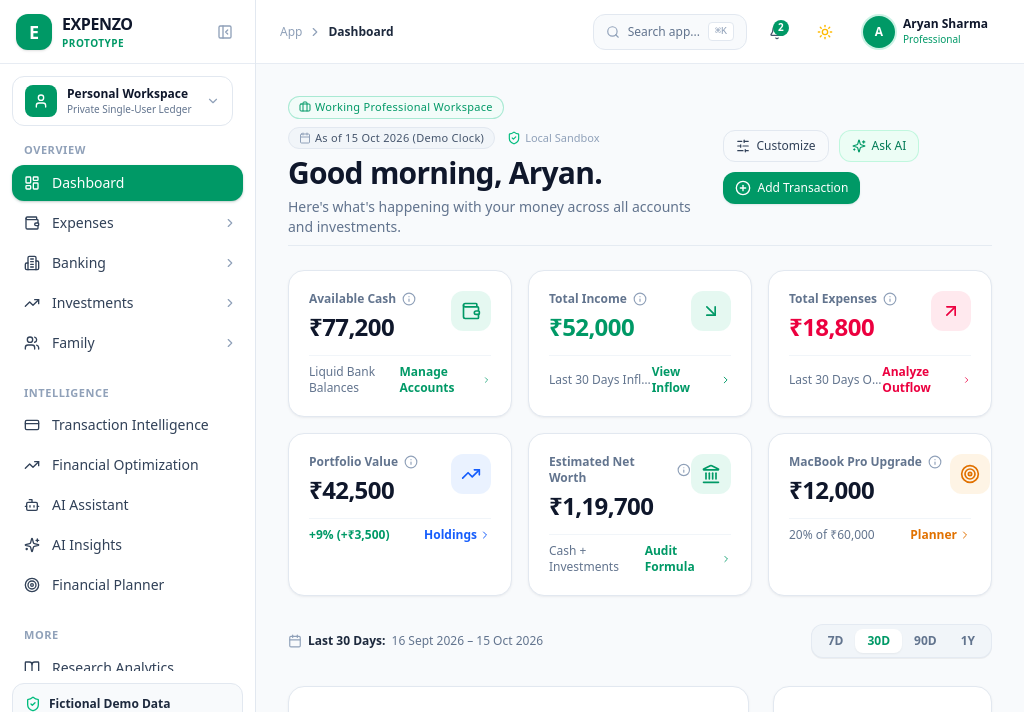
Scenario: Phase 4 Core Financial Dashboard Tests › allows customizing dashboard widget visibility via Customize dialog
# Open Customize modal
Click the button "Customize" at (776, 146), box [724,130,829,162]
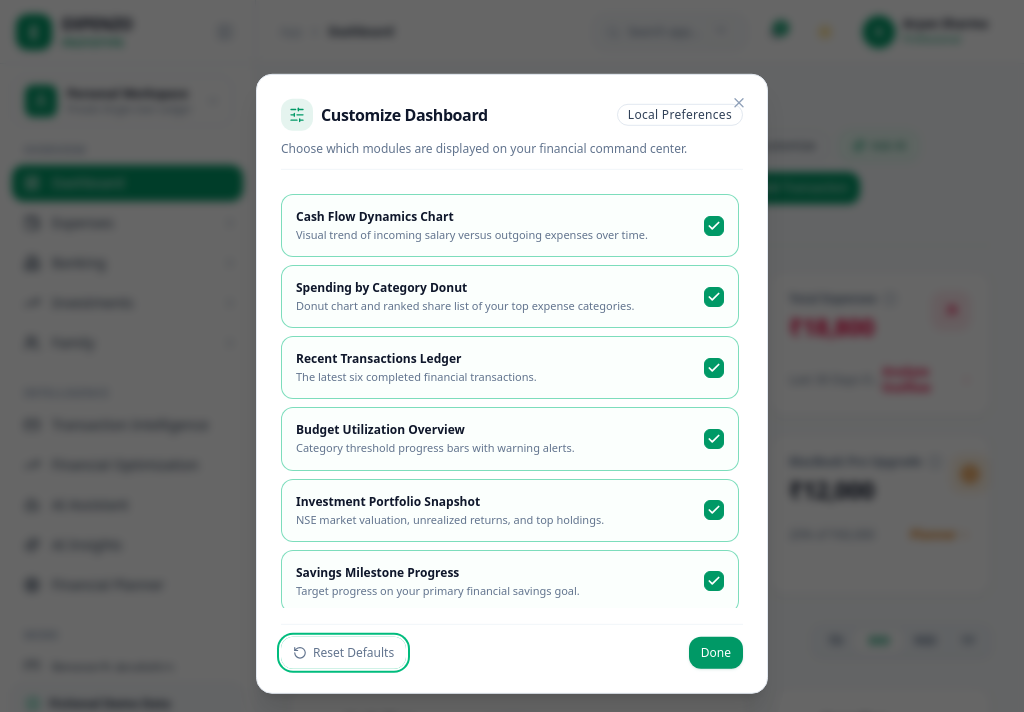
Check: the heading "Customize Dashboard" is shown, box [321,103,488,127]
Check: the heading "Cash Flow Dynamics Chart" is shown
# Toggle Cash Flow Dynamics off
Click the heading "Cash Flow Dynamics Chart" at (375, 216), box [296,208,454,225]
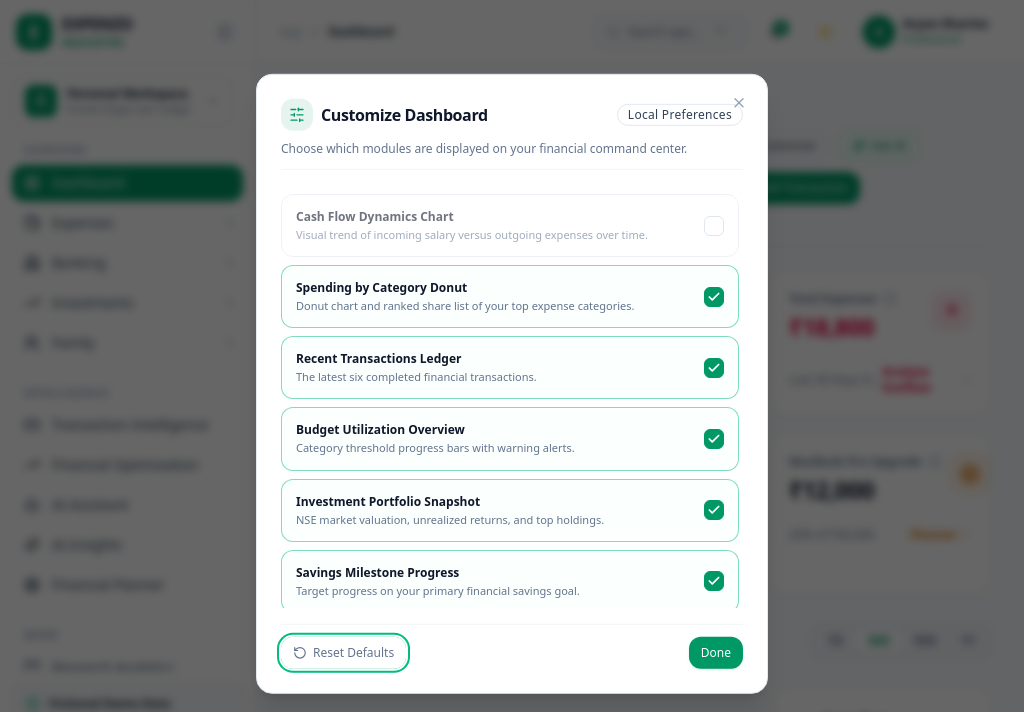
# Click Done
Click the button "Done" at (716, 653), box [689,637,743,669]
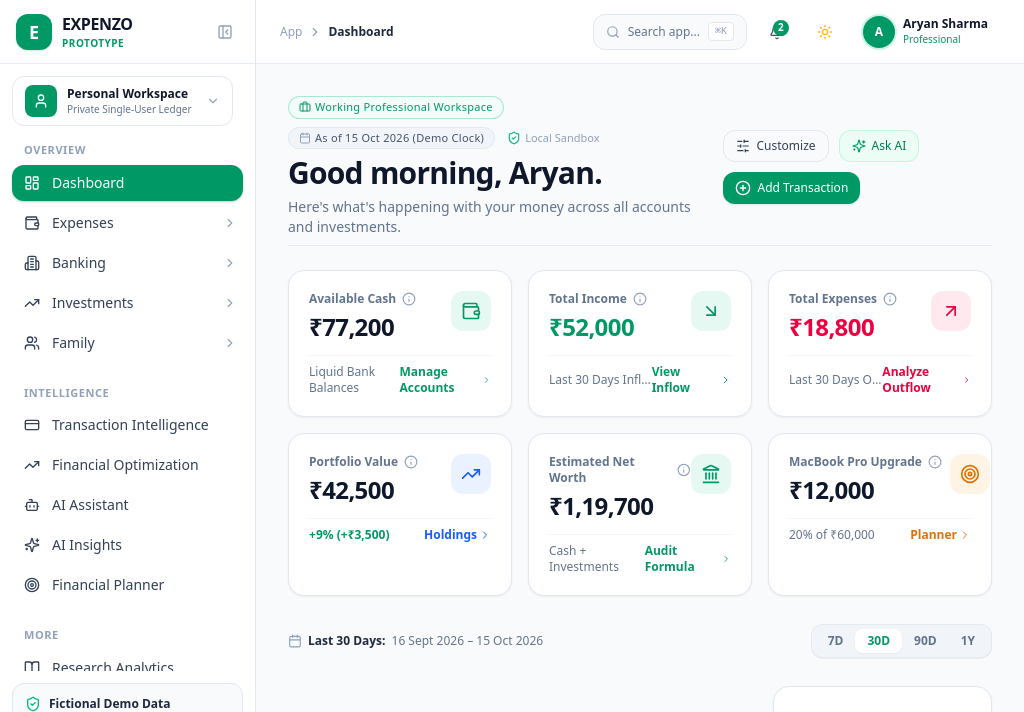
Check: the heading "Cash Flow Dynamics" is gone
